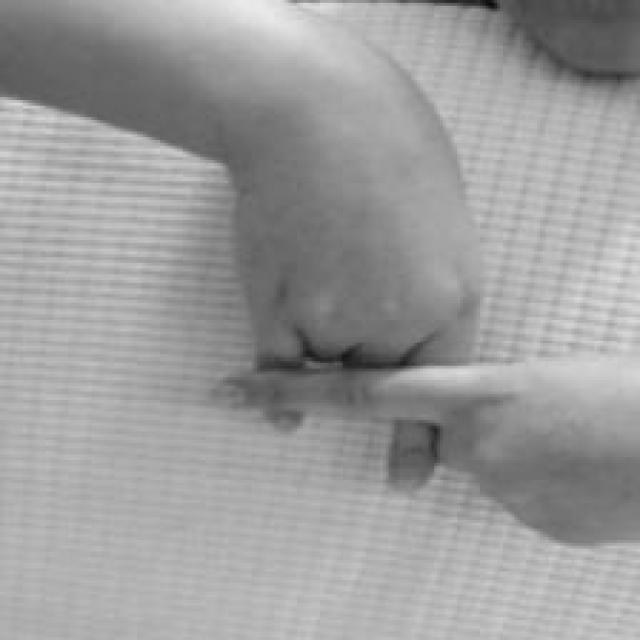H: (134, 3, 640, 550)
